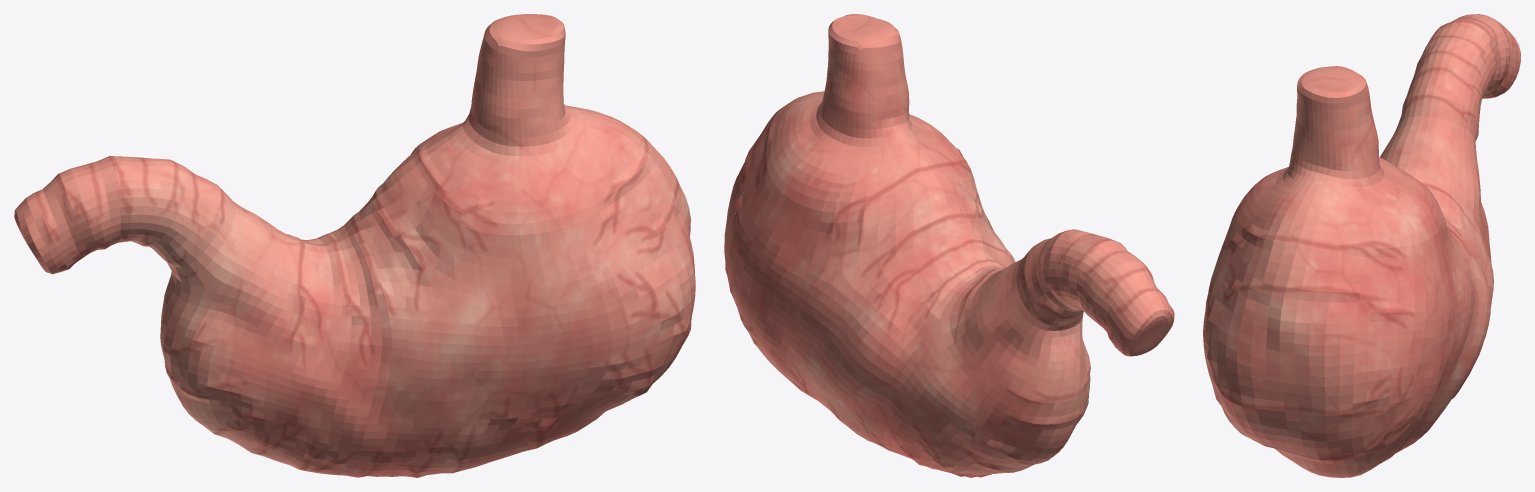
Rendered from Stomach.glb.
The picture shows the model from 3 angles, left to right: view 1: azimuth 30°, elevation 25°; view 2: azimuth 150°, elevation 25°; view 3: azimuth 270°, elevation 25°; orthographic projection. The views are drawn at different scales.
Parts seen in each view (by area): view 1: StomachDynameshLow:ZBrushPolyMesh3D; view 2: StomachDynameshLow:ZBrushPolyMesh3D; view 3: StomachDynameshLow:ZBrushPolyMesh3D.
Part boxes in pixels (box(x1,y1,x2,y2)): StomachDynameshLow:ZBrushPolyMesh3D: box(14, 14, 695, 477); StomachDynameshLow:ZBrushPolyMesh3D: box(724, 14, 1174, 477); StomachDynameshLow:ZBrushPolyMesh3D: box(1203, 14, 1520, 477).
Size of the model in its own units: 68.57 by 50.03 by 35.77.
Materials: 1 (1 with a texture image).
